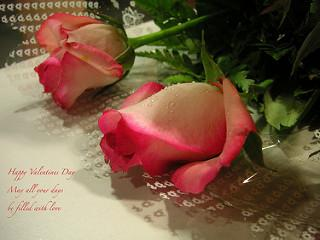Rose: (90, 84, 274, 196), (25, 6, 134, 110)
